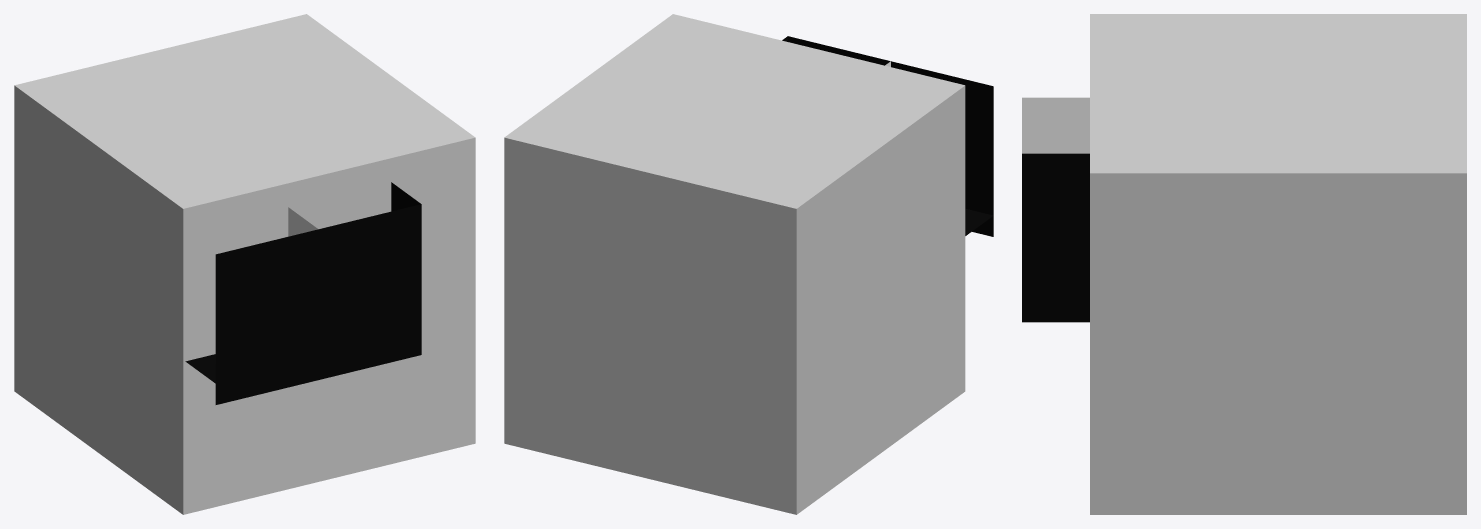
The model's file is Room24.glb.
The picture shows the model from 3 angles, left to right: view 1: azimuth 30°, elevation 25°; view 2: azimuth 150°, elevation 25°; view 3: azimuth 270°, elevation 25°; orthographic projection. The views are drawn at different scales.
Visible parts, largest first — view 1: Fog, Plane.003; view 2: Fog, Plane.003; view 3: Fog, Plane.003, Plane.005.
Part boxes in pixels (x1,y1,x2,y2): Fog: (14, 14, 475, 514); Plane.003: (185, 182, 421, 404); Fog: (504, 14, 965, 514); Plane.003: (782, 36, 993, 236); Fog: (1090, 14, 1466, 514); Plane.003: (1022, 153, 1089, 322); Plane.005: (1022, 97, 1089, 153).
Bounding box in the file's own units: 14.2 × 14.2 × 16.76.
Materials: 4 (1 with a texture image).
